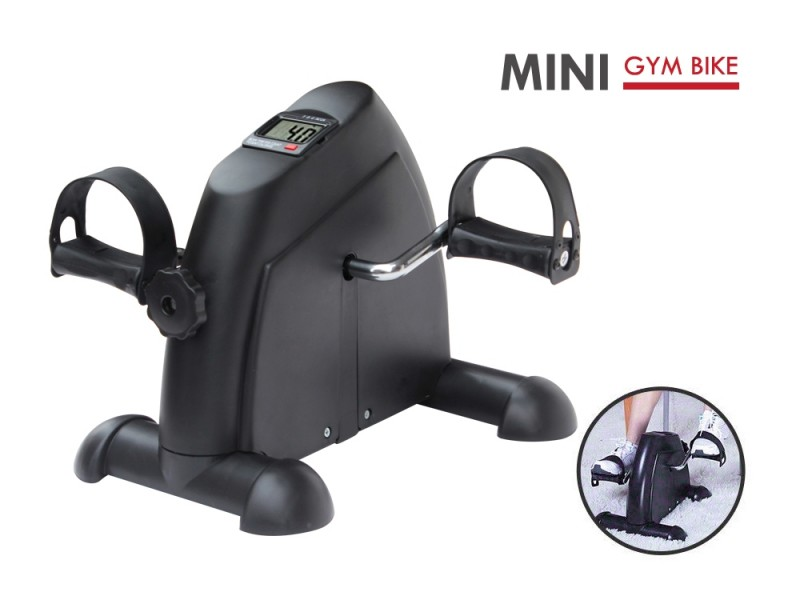gym_bike: (58, 80, 589, 535)
